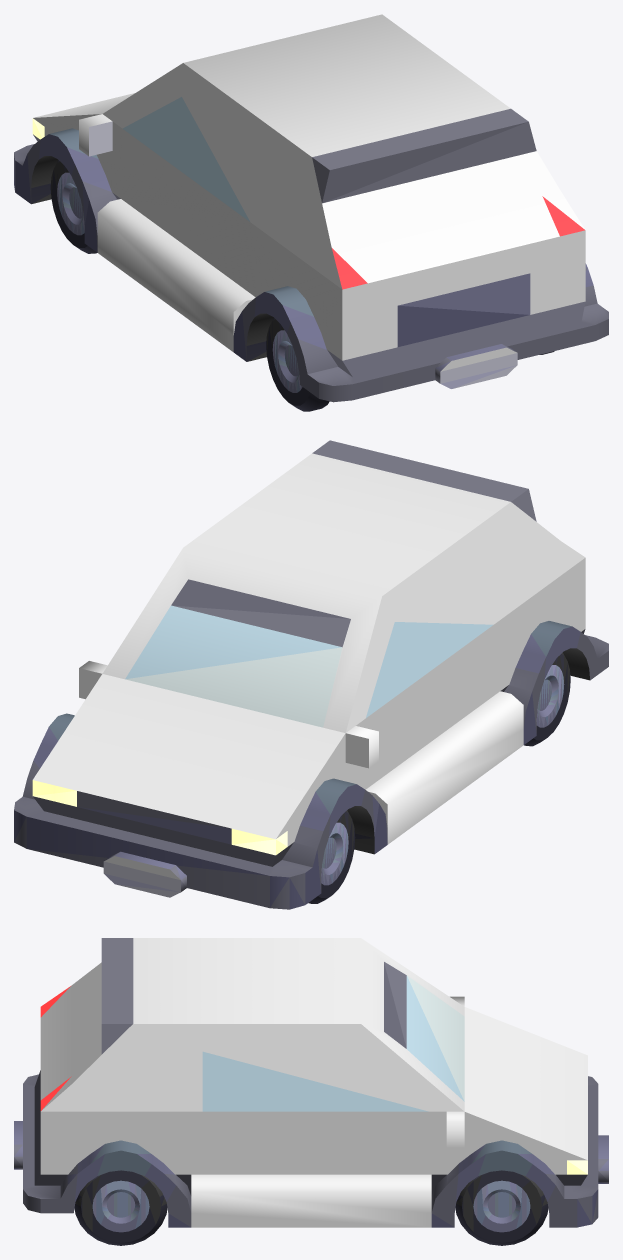
File: compact-hatch.glb
The picture shows the model from 3 angles, top to bottom: view 1: azimuth 30°, elevation 25°; view 2: azimuth 150°, elevation 25°; view 3: azimuth 270°, elevation 25°; orthographic projection. The views are drawn at different scales.
Parts seen in each view (by area): view 1: body, wheel_RL, wheel_FL; view 2: body, wheel_RL, wheel_FL; view 3: body, wheel_FR, wheel_RR.
Part boxes in pixels (x1,y1,x2,y2): body: [14, 14, 608, 402]; wheel_RL: [266, 318, 329, 411]; wheel_FL: [50, 160, 96, 253]; body: [14, 440, 608, 909]; wheel_RL: [524, 652, 570, 746]; wheel_FL: [308, 810, 355, 903]; body: [14, 938, 608, 1227]; wheel_FR: [455, 1170, 548, 1245]; wheel_RR: [74, 1170, 167, 1245].
Bounding box in the file's own units: 1.88 × 1.49 × 3.78.
